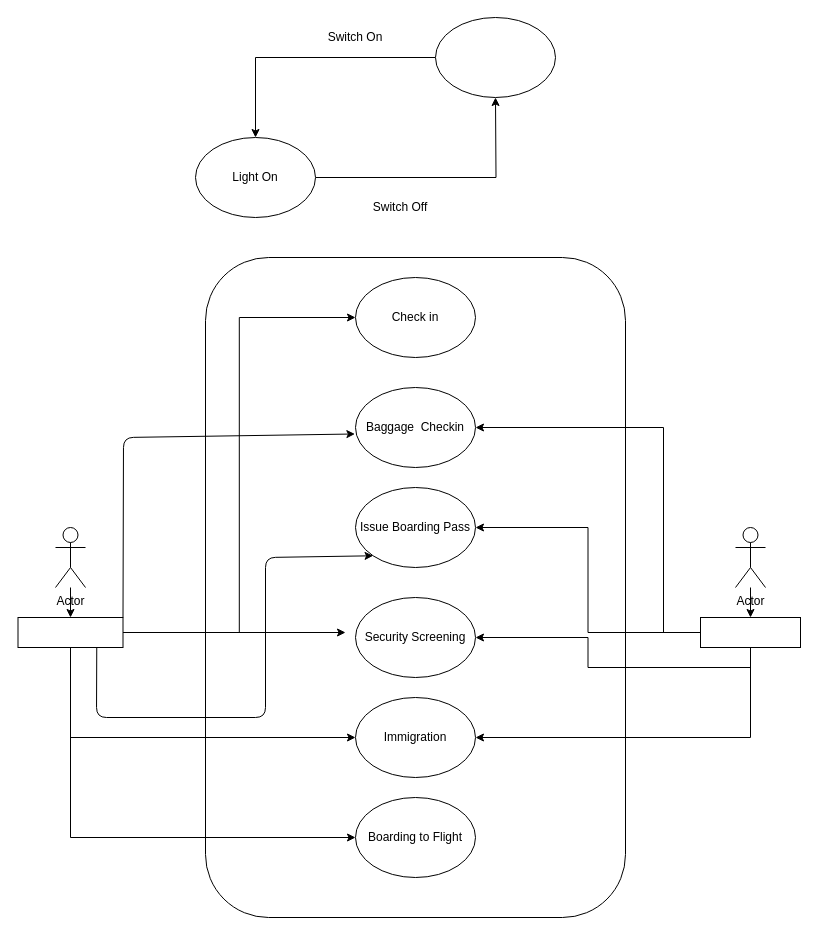
Image size: 818x935. Some labels were removed from this diagram. Here are the shapes that lost their labels. From the top down, the centre of each, then its label:
At (495,57): "Light Off".
At (70,632): "Passenger".
At (750,632): "Representative".
